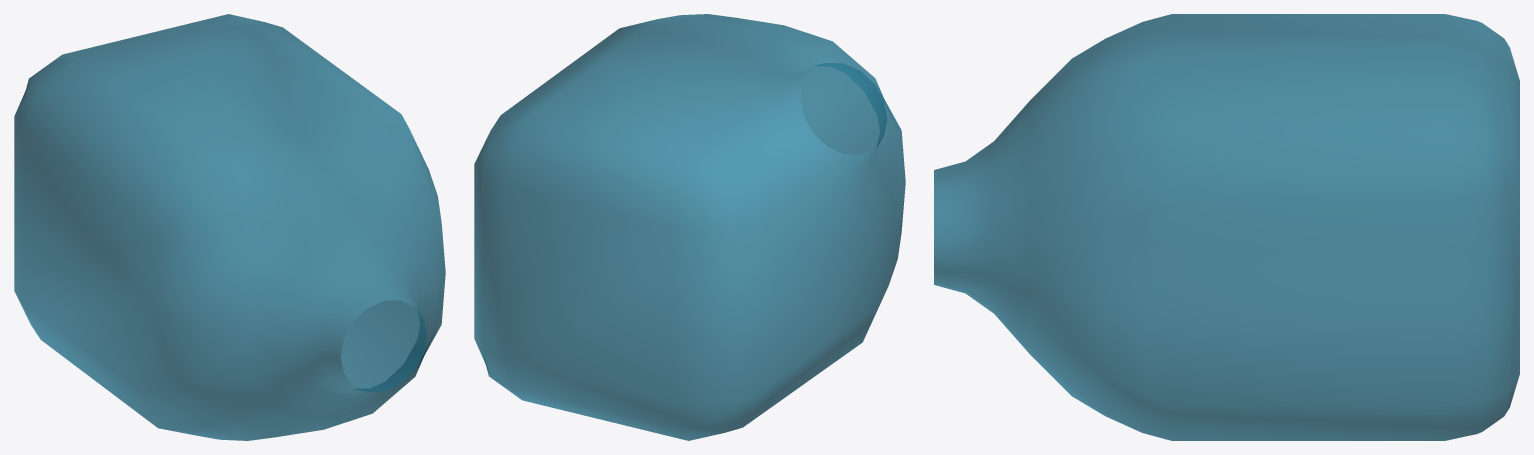
Rendered from MeshSoapBottleVolume_16_1.obj.
3 views of the same model, side by side, from view 1: azimuth 30°, elevation 25°; view 2: azimuth 150°, elevation 25°; view 3: azimuth 270°, elevation 25° (orthographic). The views are drawn at different scales.
Visible parts, largest first — view 1: SoapBottleVolume_16; view 2: SoapBottleVolume_16; view 3: SoapBottleVolume_16.
Boxes of the visible parts, left/top/right/bottom form: SoapBottleVolume_16: left=14, top=14, right=445, bottom=440; SoapBottleVolume_16: left=474, top=14, right=905, bottom=440; SoapBottleVolume_16: left=934, top=14, right=1519, bottom=440.
Size of the model in its own units: 0.0885 by 0.0885 by 0.1409.
